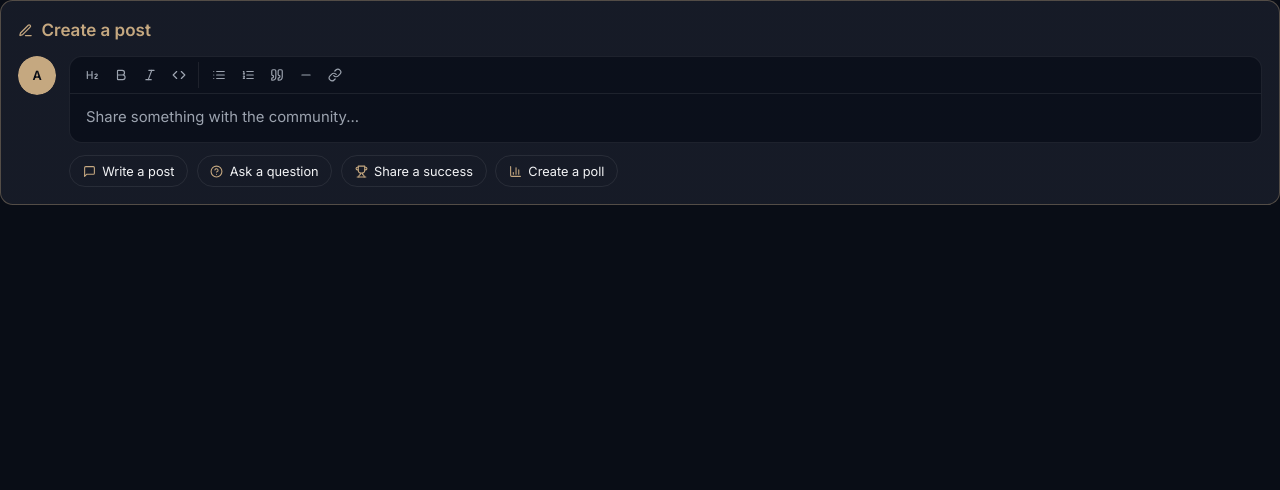
CreatePost › offers the poll before the field is clicked
This screenshot has width=1280, height=490.
Click the button "Create a poll": [557, 171] box [495, 155, 618, 187]
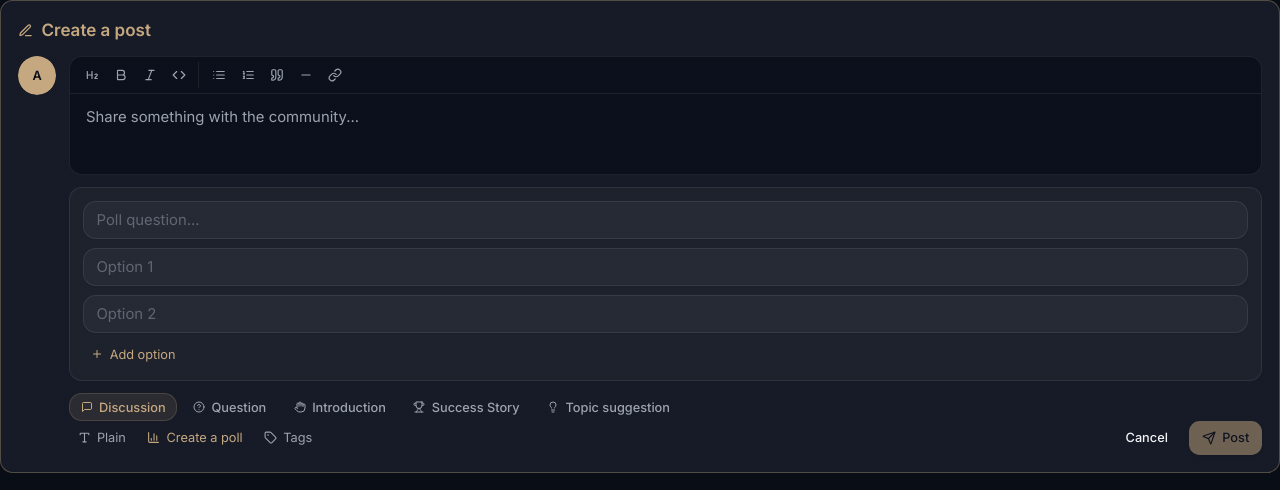
Result: the field with placeholder "Poll question..." is shown at [83, 201, 1248, 239]
